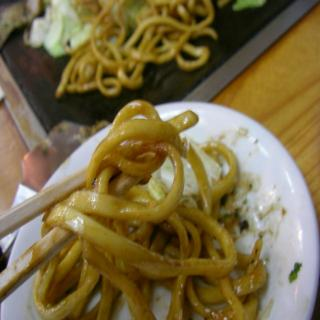Pasta: (32, 100, 267, 319)
